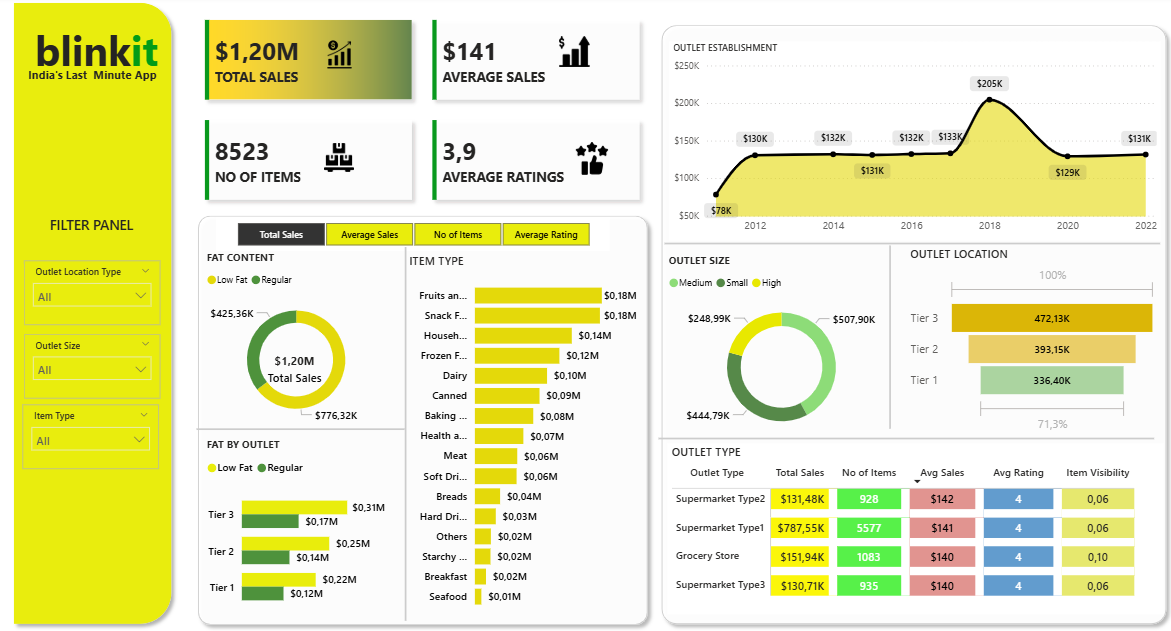

The dashboard page shown, as its layout file describes it:
{"tool":"powerbi","page":{"name":"Page 1","canvas":[1400,800],"ordinal":0},"visuals":[{"type":"shape","box":[10,0,204,750],"z":0},{"type":"textbox","box":[33.1,26.9,167.4,86.8],"z":1000},{"type":"textbox","box":[32.3,80,161.5,32.3],"z":2000},{"type":"cardVisual","fields":{"Data":["BlinkIT Grocery Data.Total Sales","BlinkIT Grocery Data.Average Sales","BlinkIT Grocery Data.No of Items","BlinkIT Grocery Data.Average Rating"]},"box":[215.4,0,570.8,270.8],"z":3000},{"type":"image","box":[378.5,53.8,50.8,33.8],"z":4000},{"type":"image","box":[386.2,172.3,35.4,40],"z":5000},{"type":"image","box":[678.5,173.8,44.6,38.5],"z":6000},{"type":"image","box":[661.5,46.2,38.5,41.5],"z":7000},{"type":"shape","box":[227.7,250.8,547.7,500],"z":8000},{"type":"donutChart","title":"FAT CONTENT","fields":{"Y":["BlinkIT Grocery Data.Total Sales"],"Category":["BlinkIT Grocery Data.Item Fat Content"]},"box":[242.9,301.2,220,215],"z":9000},{"type":"slicer","fields":{"Values":["Metrics.Metrics"]},"box":[258.7,260.9,464.1,40.2],"z":10000},{"type":"cardVisual","fields":{"Data":["BlinkIT Grocery Data.Total Sales"]},"box":[269.2,400,164.6,81.5],"z":11000},{"type":"clusteredBarChart","title":"FAT BY OUTLET","fields":{"Y":["BlinkIT Grocery Data.Total Sales"],"Category":["BlinkIT Grocery Data.Outlet Location Type"],"Series":["BlinkIT Grocery Data.Item Fat Content"]},"box":[241.5,521.5,220,215.4],"z":12000},{"type":"shape","box":[235.7,490.5,245.2,40.5],"z":13000},{"type":"shape","box":[471.4,296.4,19,440.5],"z":14000},{"type":"barChart","title":"ITEM TYPE","fields":{"Y":["BlinkIT Grocery Data.Total Sales"],"Category":["BlinkIT Grocery Data.Item Type"]},"box":[481,303.2,277.8,428.6],"z":15000},{"type":"shape","box":[774.6,27,612.7,723.8],"z":16000},{"type":"lineChart","title":"OUTLET ESTABLISHMENT","fields":{"Category":["BlinkIT Grocery Data.Outlet Establishment Year"],"Y":["BlinkIT Grocery Data.Total Sales"]},"box":[792.1,54,579.4,234.9],"z":17000},{"type":"shape","box":[787.3,271.4,584.1,41.3],"z":18000},{"type":"donutChart","title":"OUTLET SIZE","fields":{"Y":["BlinkIT Grocery Data.Total Sales"],"Category":["BlinkIT Grocery Data.Outlet Size"]},"box":[787.3,303.2,275,225],"z":19000},{"type":"shape","box":[1042.9,295.2,19,215.9],"z":20000},{"type":"funnel","title":"OUTLET LOCATION","fields":{"Category":["BlinkIT Grocery Data.Outlet Location Type"],"Y":["Sum(BlinkIT Grocery Data.Sales)"]},"box":[1071.4,295.2,300,225.4],"z":21000},{"type":"shape","box":[779.4,501.6,584.1,41.3],"z":22000},{"type":"pivotTable","title":"OUTLET TYPE","fields":{"Values":["BlinkIT Grocery Data.Total Sales","BlinkIT Grocery Data.No of Items","BlinkIT Grocery Data.Average Sales","BlinkIT Grocery Data.Average Rating","Avg(BlinkIT Grocery Data.Item Visibility)"],"Rows":["BlinkIT Grocery Data.Outlet Type"]},"box":[789.2,528.9,584.3,201.2],"z":23000},{"type":"slicer","fields":{"Values":["BlinkIT Grocery Data.Outlet Location Type"]},"box":[31.8,312.8,160.8,76],"z":24000},{"type":"slicer","fields":{"Values":["BlinkIT Grocery Data.Outlet Size"]},"box":[31.8,399.4,160.8,76],"z":25000},{"type":"slicer","fields":{"Values":["BlinkIT Grocery Data.Item Type"]},"box":[30,482.5,160.8,76],"z":26000},{"type":"textbox","box":[49.5,254.5,123.7,35.3],"z":27000}]}

Visuals, with their boxes on the page's 1400x800 design canvas (x1, y1, x2, y2). These are canvas units, not pixel positions in the 1171x631 screenshot, which may show the page scaled, cropped or inside an application window:
shape: <region>10, 0, 214, 750</region>
textbox: <region>33, 27, 200, 114</region>
textbox: <region>32, 80, 194, 112</region>
cardVisual - BlinkIT Grocery Data.Total Sales x BlinkIT Grocery Data.Average Sales: <region>215, 0, 786, 271</region>
image: <region>378, 54, 429, 88</region>
image: <region>386, 172, 422, 212</region>
image: <region>678, 174, 723, 212</region>
image: <region>662, 46, 700, 88</region>
shape: <region>228, 251, 775, 751</region>
"FAT CONTENT" donutChart: <region>243, 301, 463, 516</region>
slicer - Metrics.Metrics: <region>259, 261, 723, 301</region>
cardVisual - BlinkIT Grocery Data.Total Sales: <region>269, 400, 434, 482</region>
"FAT BY OUTLET" clusteredBarChart: <region>242, 522, 462, 737</region>
shape: <region>236, 490, 481, 531</region>
shape: <region>471, 296, 490, 737</region>
"ITEM TYPE" barChart: <region>481, 303, 759, 732</region>
shape: <region>775, 27, 1387, 751</region>
"OUTLET ESTABLISHMENT" lineChart: <region>792, 54, 1372, 289</region>
shape: <region>787, 271, 1371, 313</region>
"OUTLET SIZE" donutChart: <region>787, 303, 1062, 528</region>
shape: <region>1043, 295, 1062, 511</region>
"OUTLET LOCATION" funnel: <region>1071, 295, 1371, 521</region>
shape: <region>779, 502, 1364, 543</region>
"OUTLET TYPE" pivotTable: <region>789, 529, 1374, 730</region>
slicer - BlinkIT Grocery Data.Outlet Location Type: <region>32, 313, 193, 389</region>
slicer - BlinkIT Grocery Data.Outlet Size: <region>32, 399, 193, 475</region>
slicer - BlinkIT Grocery Data.Item Type: <region>30, 482, 191, 558</region>
textbox: <region>50, 254, 173, 290</region>
